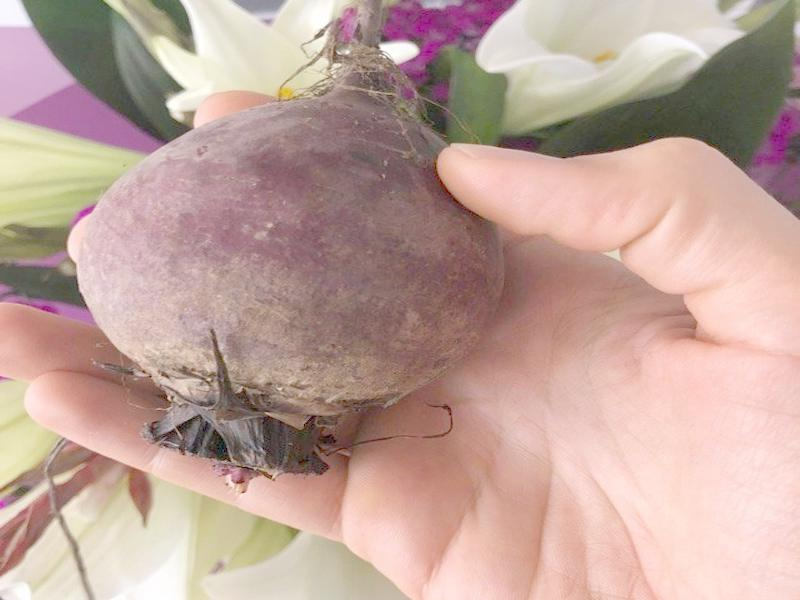Beet: (74, 2, 503, 489)
